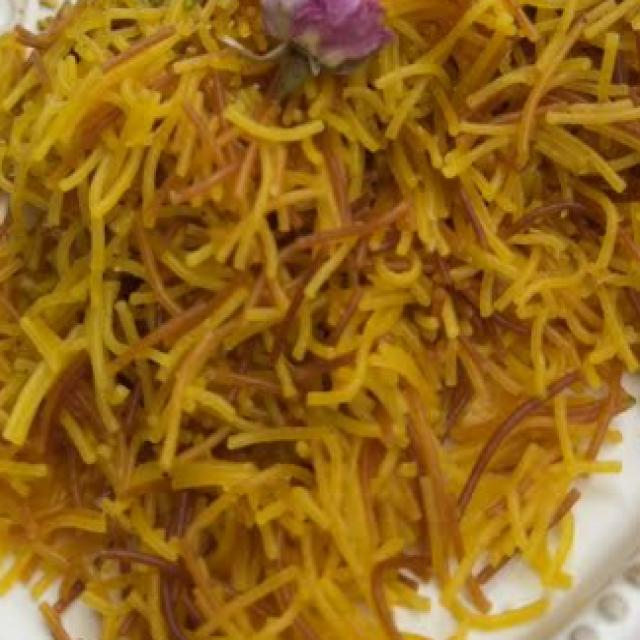Balaleet: (12, 18, 638, 623)
